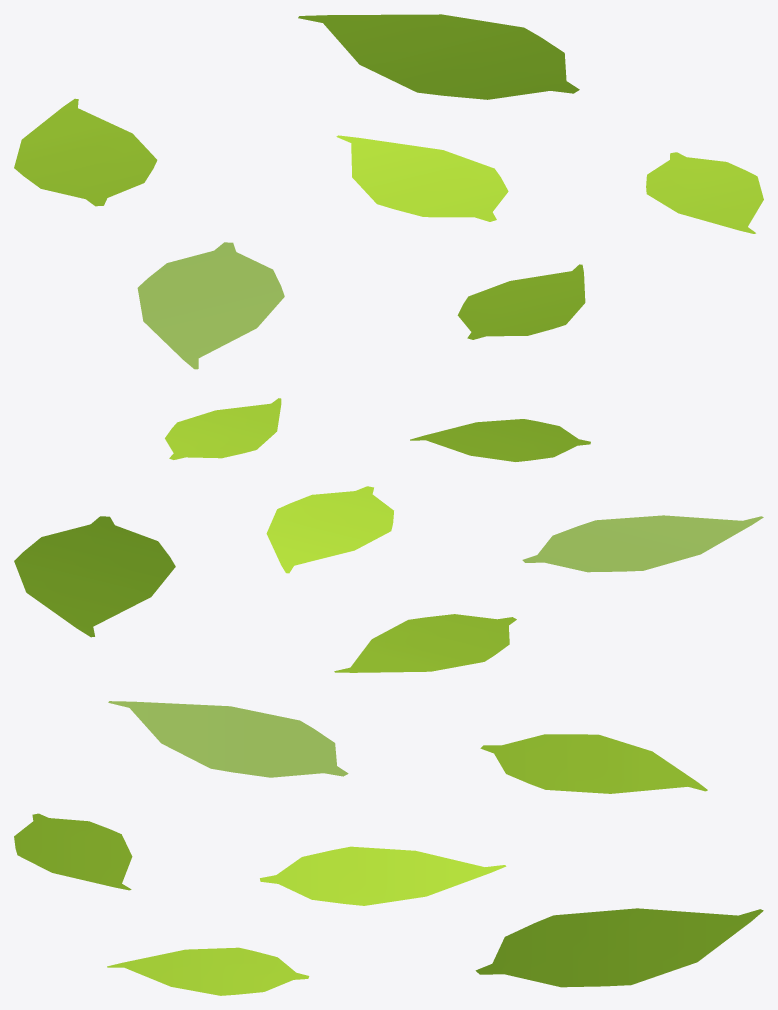
The model's file is Fallen_Leaves.glb.
The picture shows the model from 3 angles, top to bottom: view 1: azimuth 30°, elevation 25°; view 2: azimuth 150°, elevation 25°; view 3: azimuth 270°, elevation 25°; orthographic projection. The views are drawn at different scales.
Visible parts, largest first — view 1: fallen_leaves; view 2: fallen_leaves; view 3: fallen_leaves.
Part boxes in pixels (x1,y1,x2,y2): fallen_leaves: (14,14,763,369); fallen_leaves: (14,398,763,672); fallen_leaves: (14,701,763,995).
Bounding box in the file's own units: 1.75 × 9.29e-09 × 1.88.
1 material, 1 textured.
